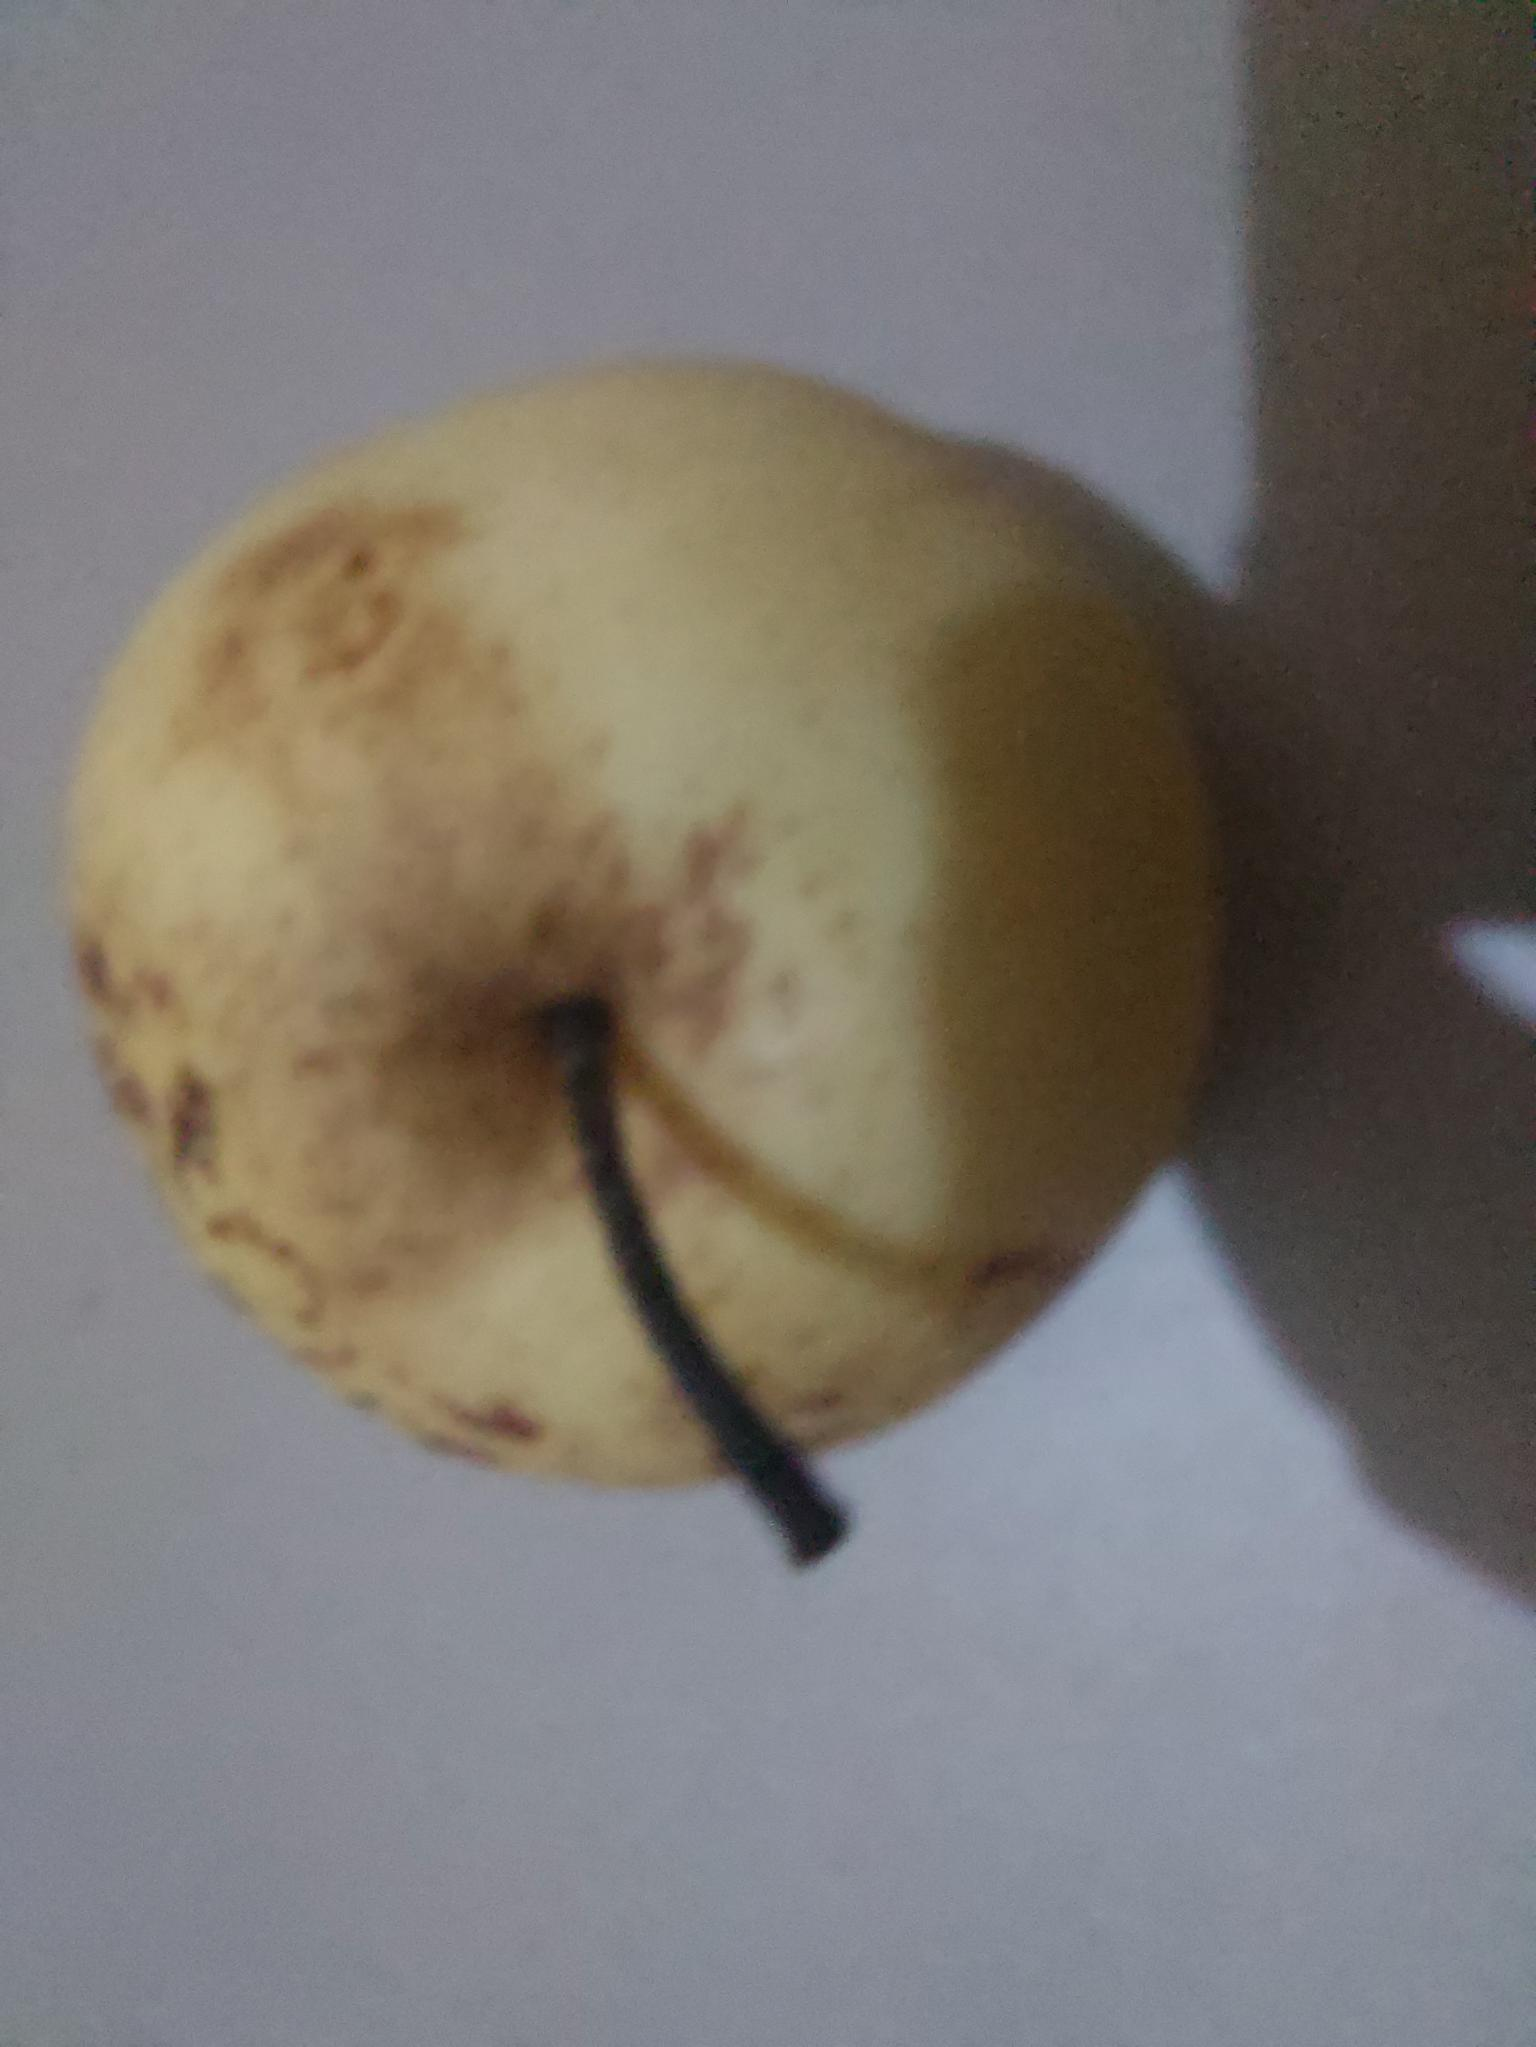Bad Pear: (97, 371, 1246, 1494)
